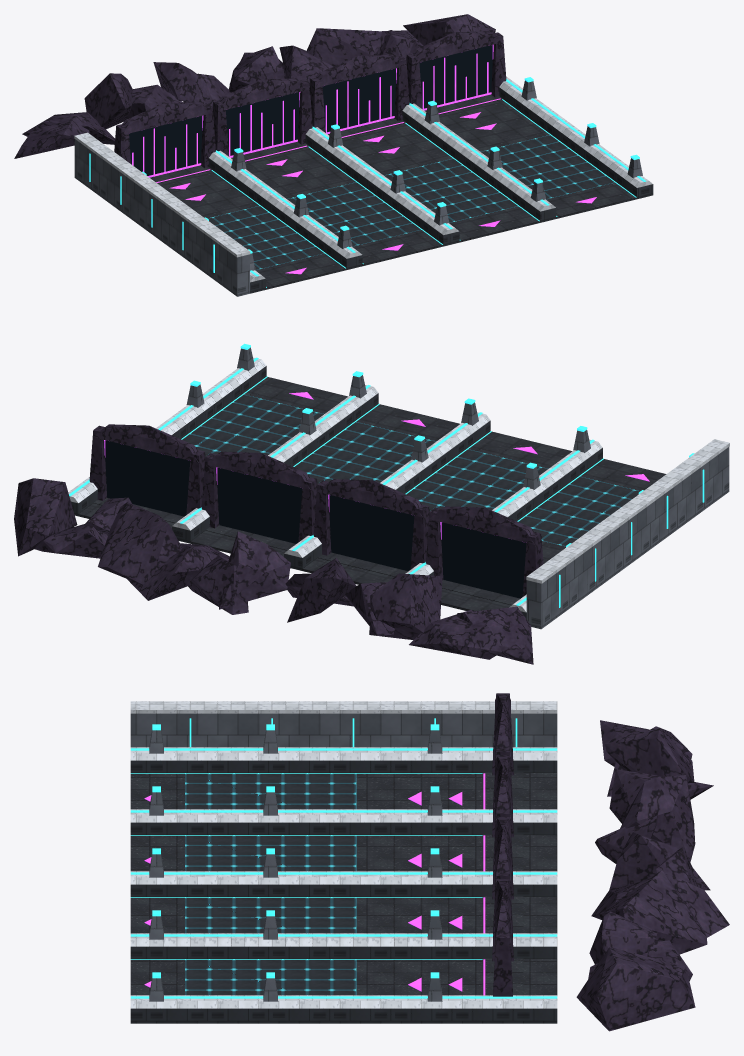
Rendered from env_lanes_w.glb.
3 views of the same model, one above another, from view 1: azimuth 30°, elevation 25°; view 2: azimuth 150°, elevation 25°; view 3: azimuth 270°, elevation 25° (orthographic). The views are drawn at different scales.
Visible parts, largest first — view 1: env_lanes_w; view 2: env_lanes_w; view 3: env_lanes_w.
Boxes of the visible parts, left/top/right/bottom form: env_lanes_w: left=14, top=14, right=653, bottom=296; env_lanes_w: left=14, top=343, right=729, bottom=664; env_lanes_w: left=130, top=693, right=729, bottom=1031.
Size of the model in its own units: 53.02 by 7.8 by 52.71.
Materials: 9 (9 with a texture image).
